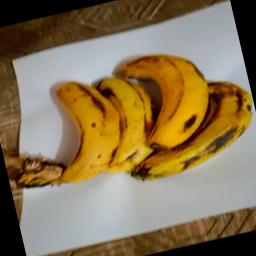Banana Unripe: (123, 22, 256, 182), (0, 64, 129, 201), (90, 62, 168, 186)
